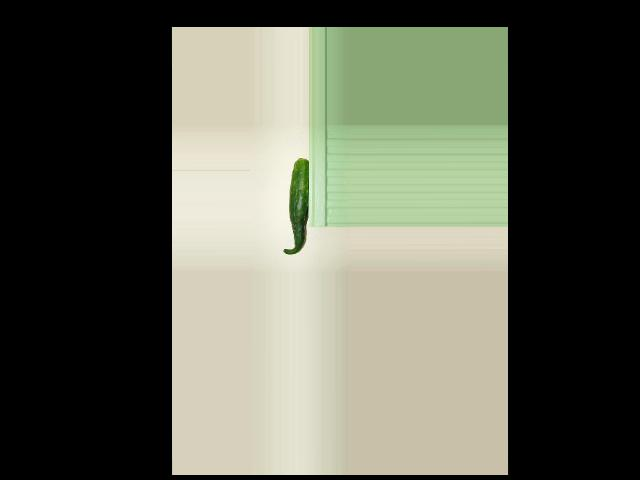cucumber: (283, 158, 309, 254)
